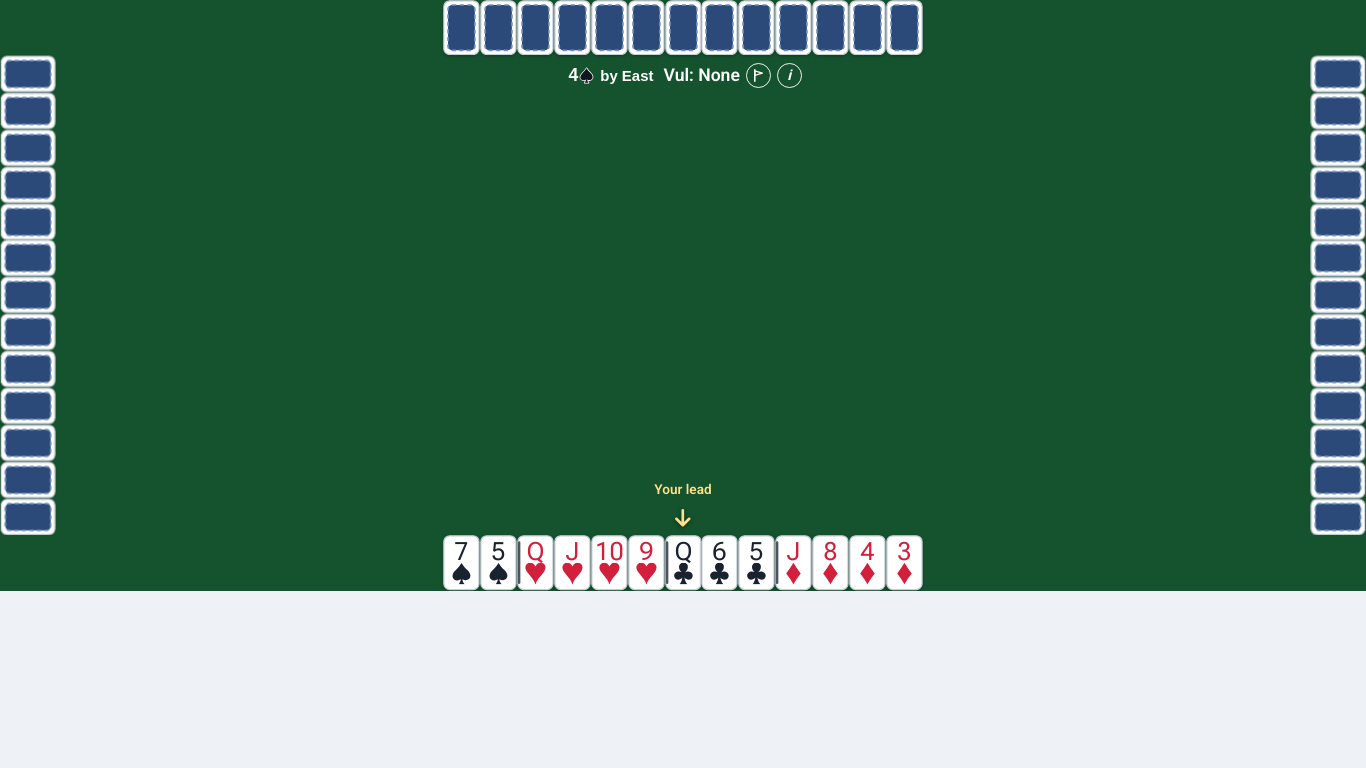
Test case: flagging for review during play › Shift+F toggles the flag mid-play, and only closes an open answer popup
expect the text "Your lead" is shown: met, box [654,481,712,497]
Type keys "{Shift>}F{/Shift}"
Click the picture named "7 of spades": click(461, 563) [443,535,480,591]
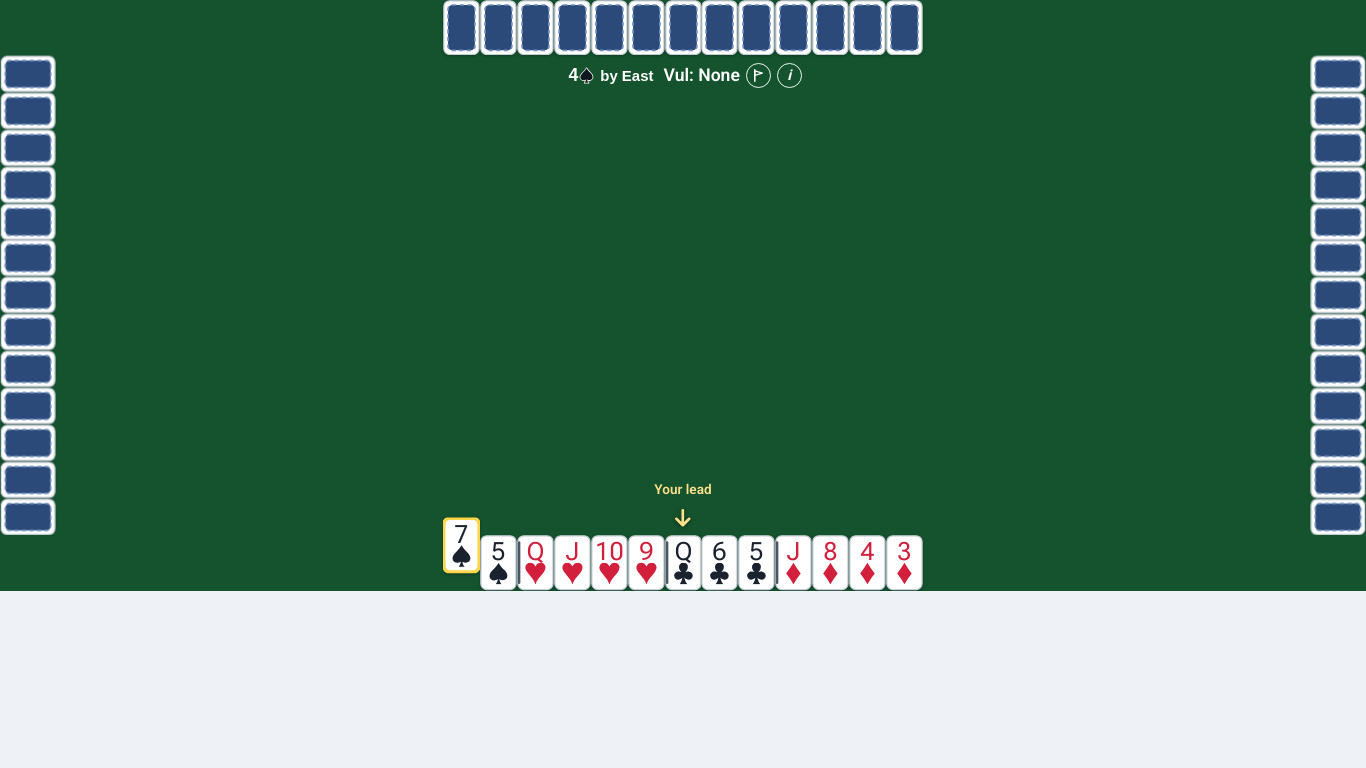
Click the picture named "7 of spades": click(461, 546) [443,518,480,573]
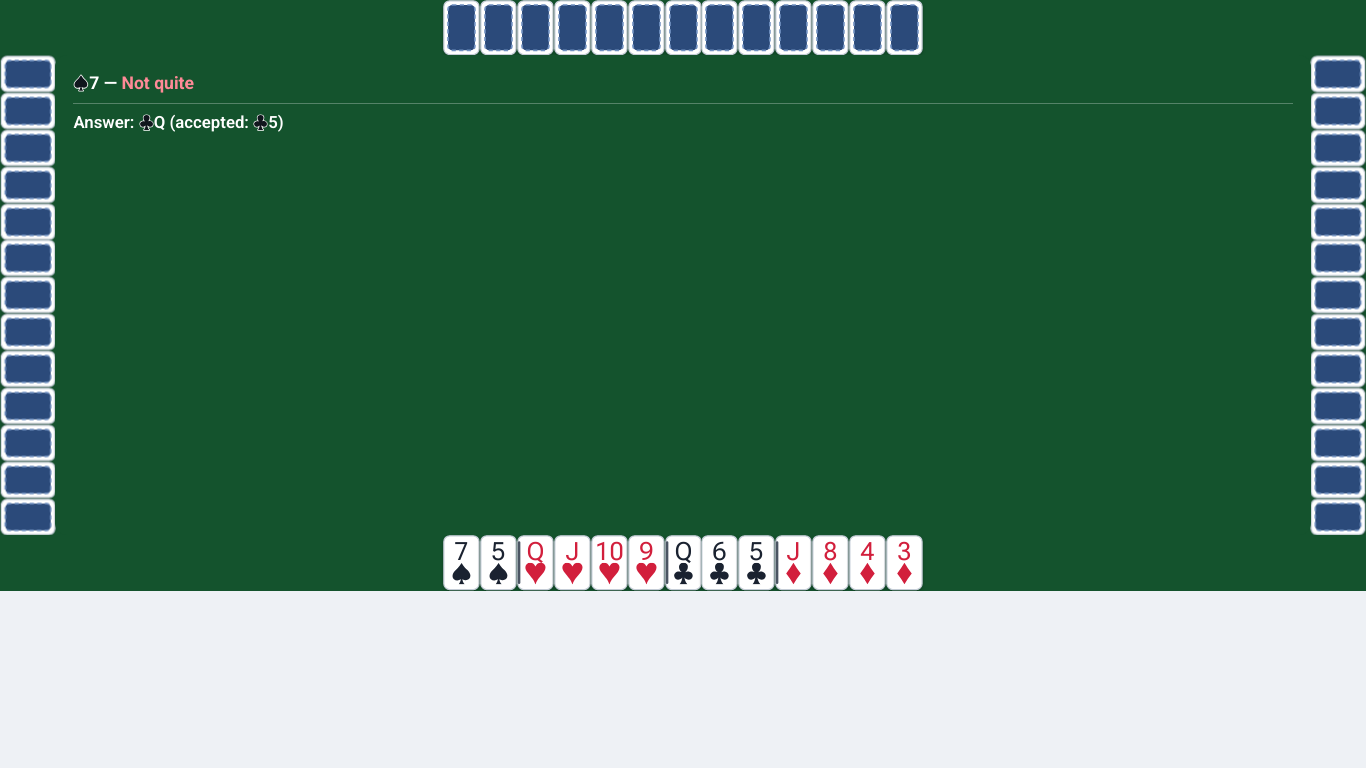
expect the text "Not quite" is shown: met, box [122,73,194,93]
Type keys "{Shift>}F{/Shift}"
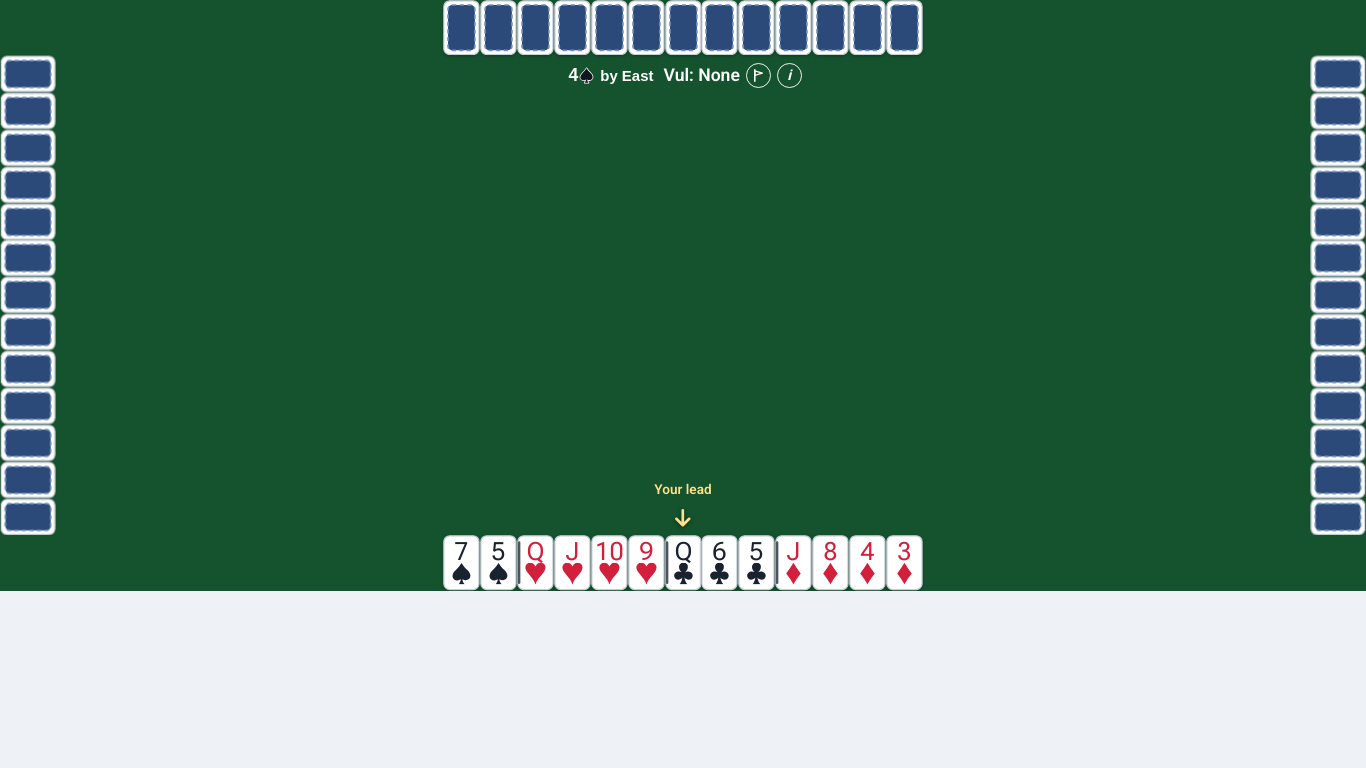
expect the text "Not quite" is gone: met
